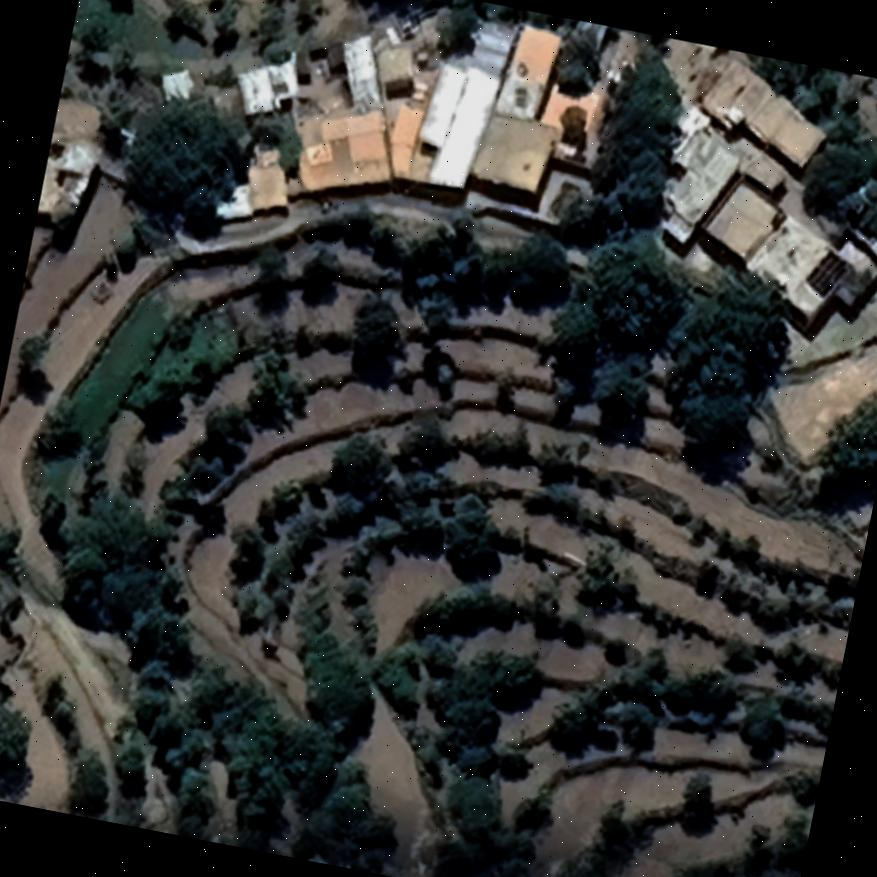Solarpanel: (798, 243, 854, 296)
